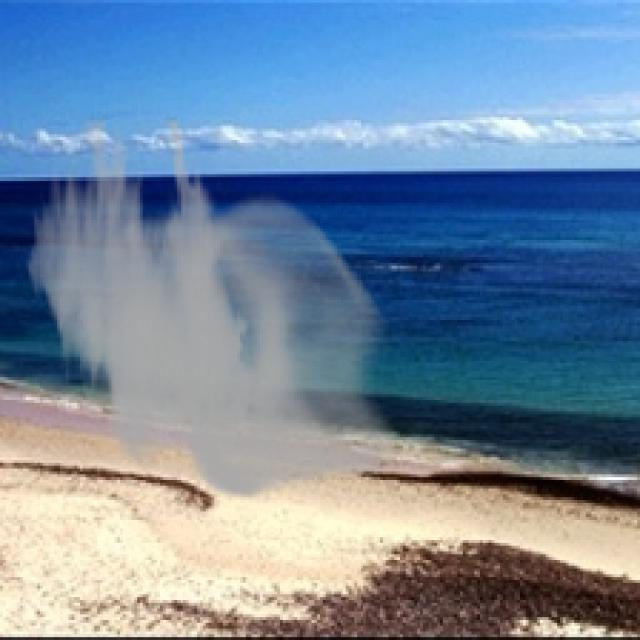smoke: (23, 117, 397, 500)
